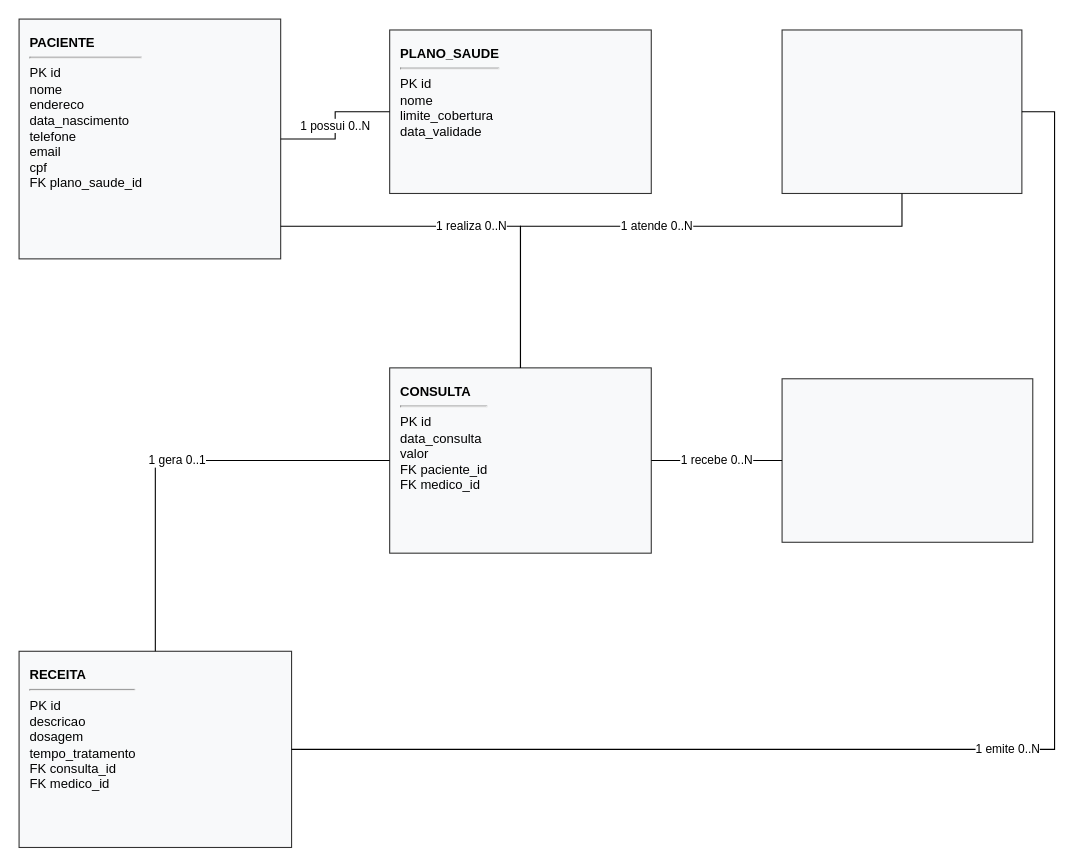
This 1075x867 diagram has some shape labels left out. The shapes that lost their labels are listed below. From the top down, each one's box as (x1, y1, x2, y2) in pixels, then its label:
(781, 29, 1022, 193): MEDICO PK id nome especialidade crm
(781, 378, 1033, 542): PAGAMENTO PK id valor data_pagamento FK consulta_id
